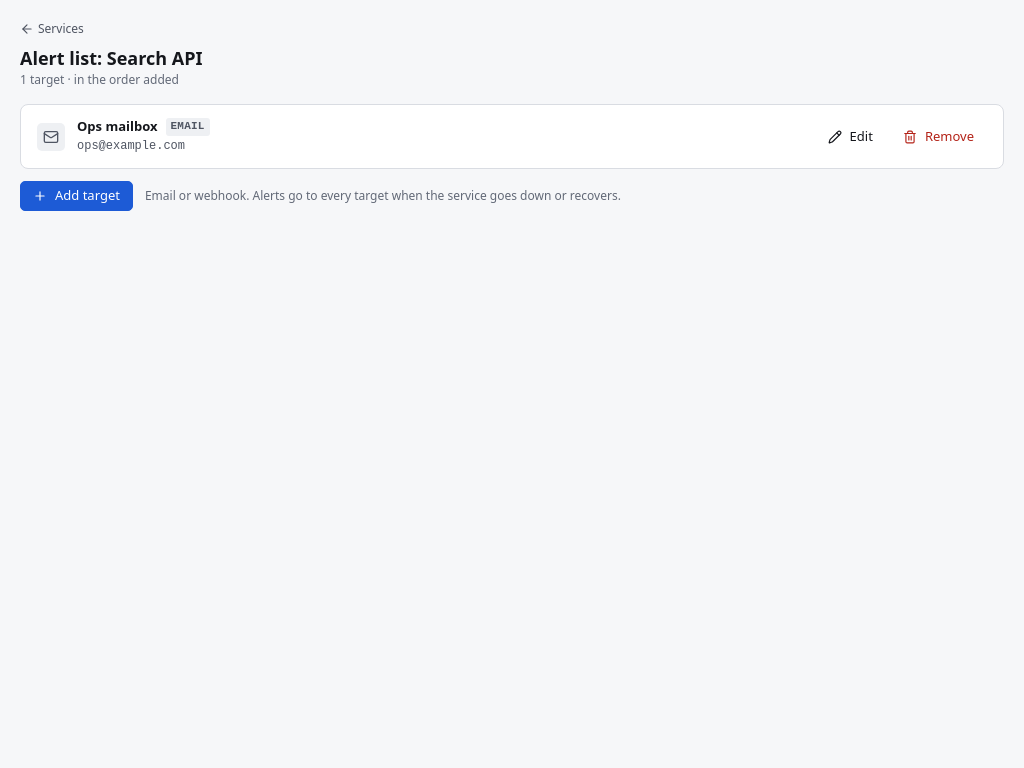
Test: opening the add dialog › counts the typed characters
The image size is (1024, 768).
Expected: the list named "Notification targets" is shown, [20, 104, 1004, 169]
Click the button "Add target": [76, 196] box [20, 181, 133, 211]
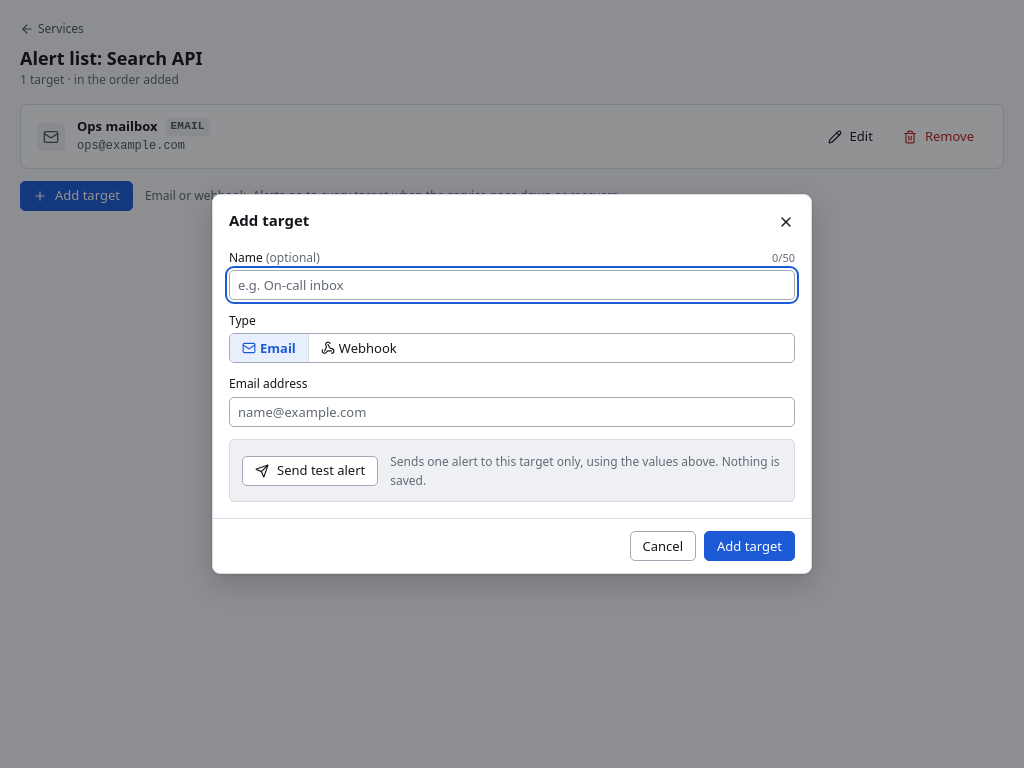
Expected: the dialog "Add target" is shown, [212, 194, 812, 574]
In the field labelled "Name (optional)": [512, 285] box [229, 270, 795, 300], type "abcdefghijkl"
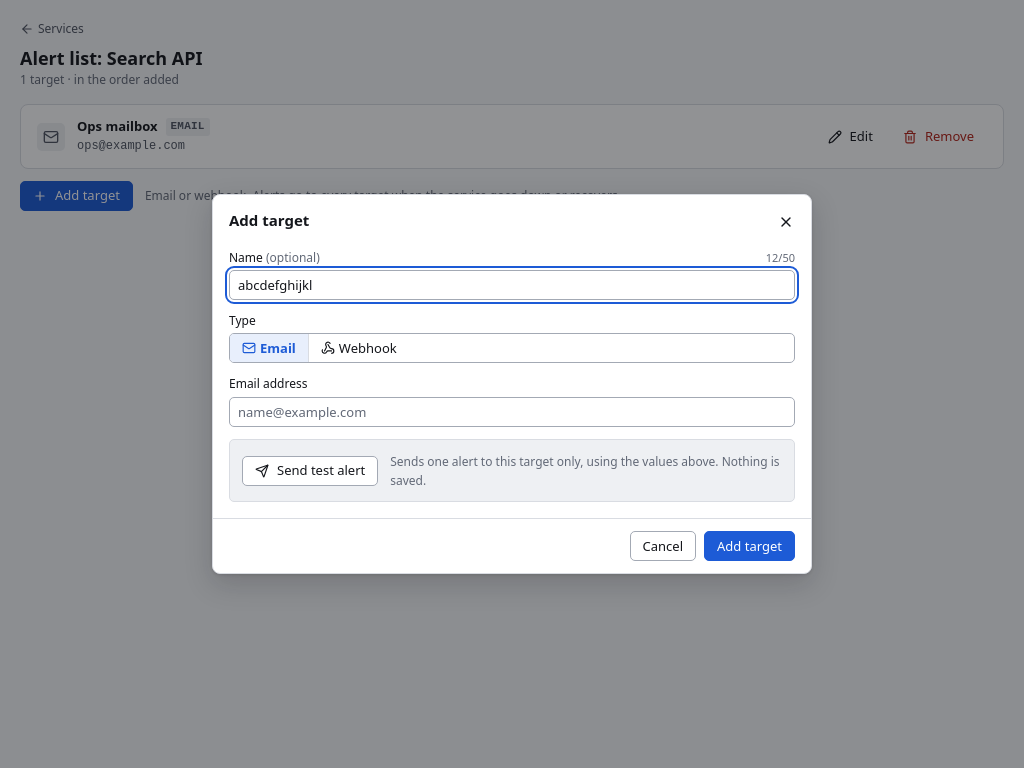
Expected: the text "12/50" is shown, [766, 250, 795, 266]
